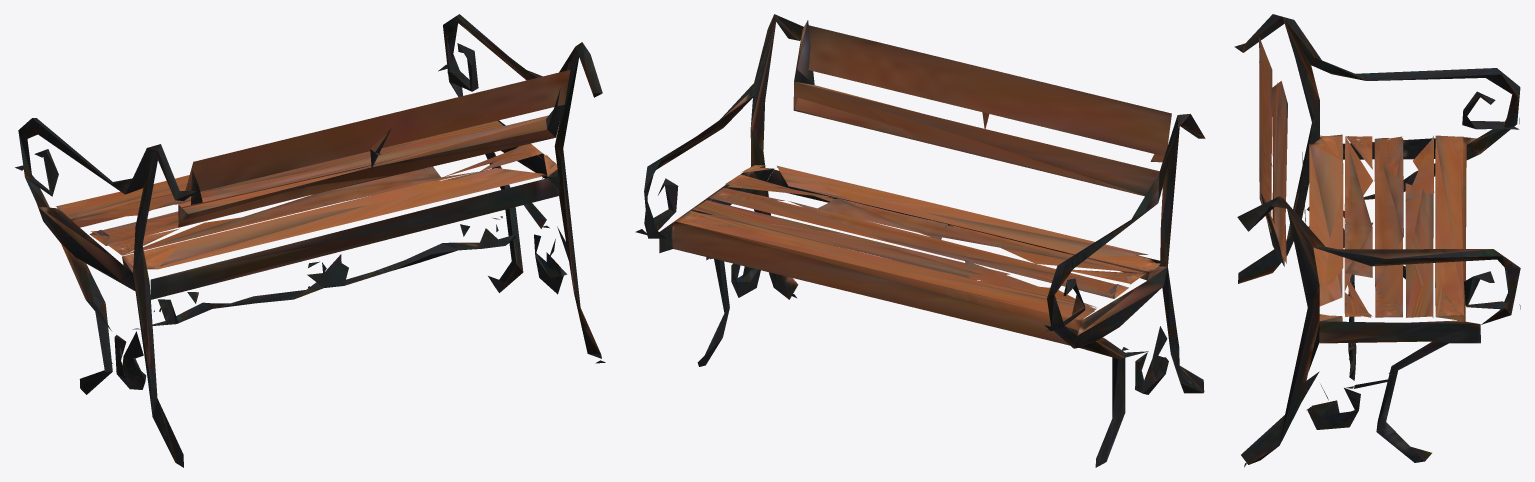
The model's file is mj-deck-bench.lod1.glb.
3 renders of one model, left to right at view 1: azimuth 30°, elevation 25°; view 2: azimuth 150°, elevation 25°; view 3: azimuth 270°, elevation 25°, orthographic. The views are drawn at different scales.
Visible parts, largest first — view 1: mj-deck-bench; view 2: mj-deck-bench; view 3: mj-deck-bench.
Part boxes in pixels (box(x1,y1,x2,y2)): mj-deck-bench: box(15, 14, 605, 467); mj-deck-bench: box(635, 14, 1205, 467); mj-deck-bench: box(1234, 14, 1520, 467).
Size of the model in its own units: 1.26 by 0.8421 by 0.8094.
Materials: 1 (1 with a texture image).
